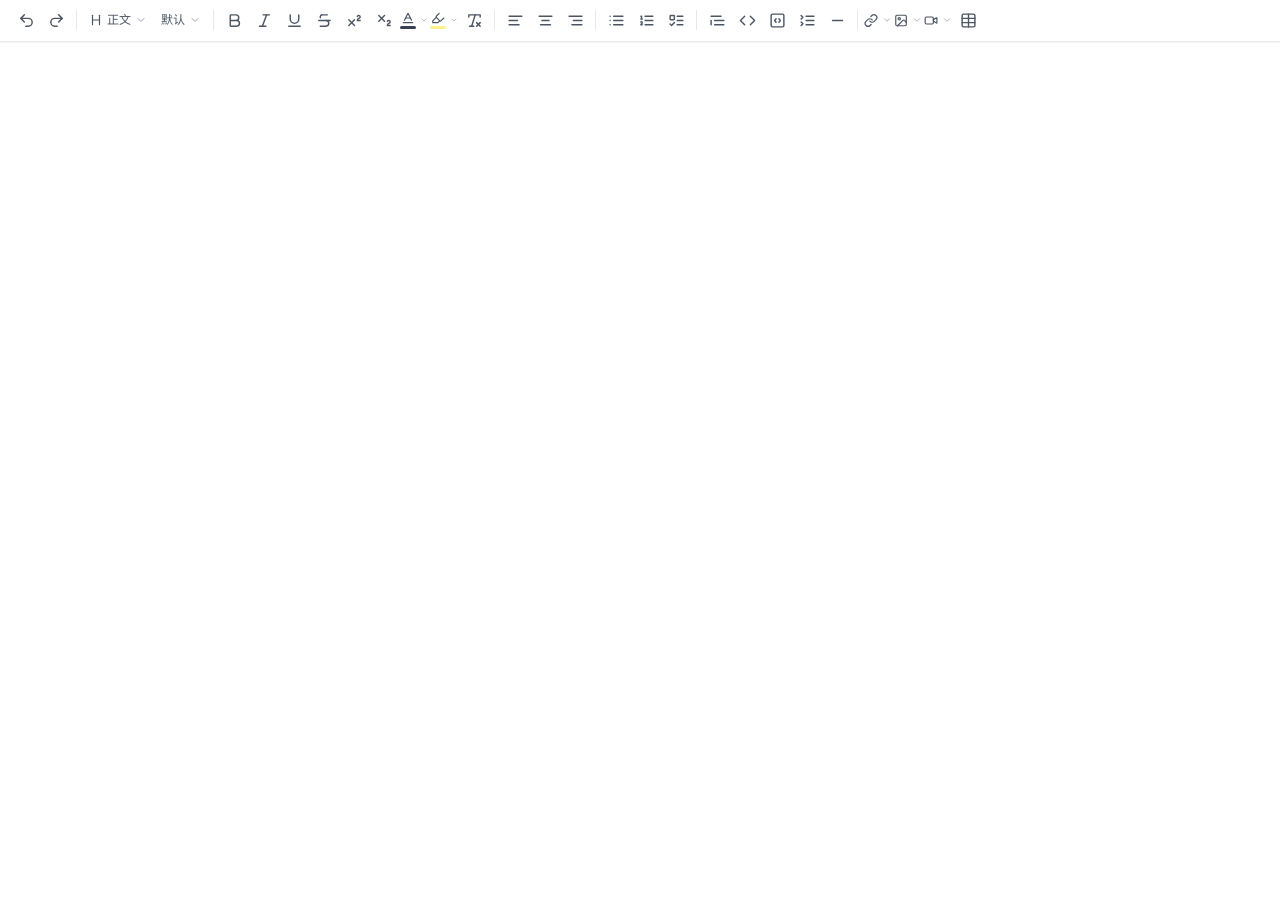
Scenario: the menus › close on an outside mousedown
Click the button with aria-label "字号" at (181, 20), box [155,6,207,34]
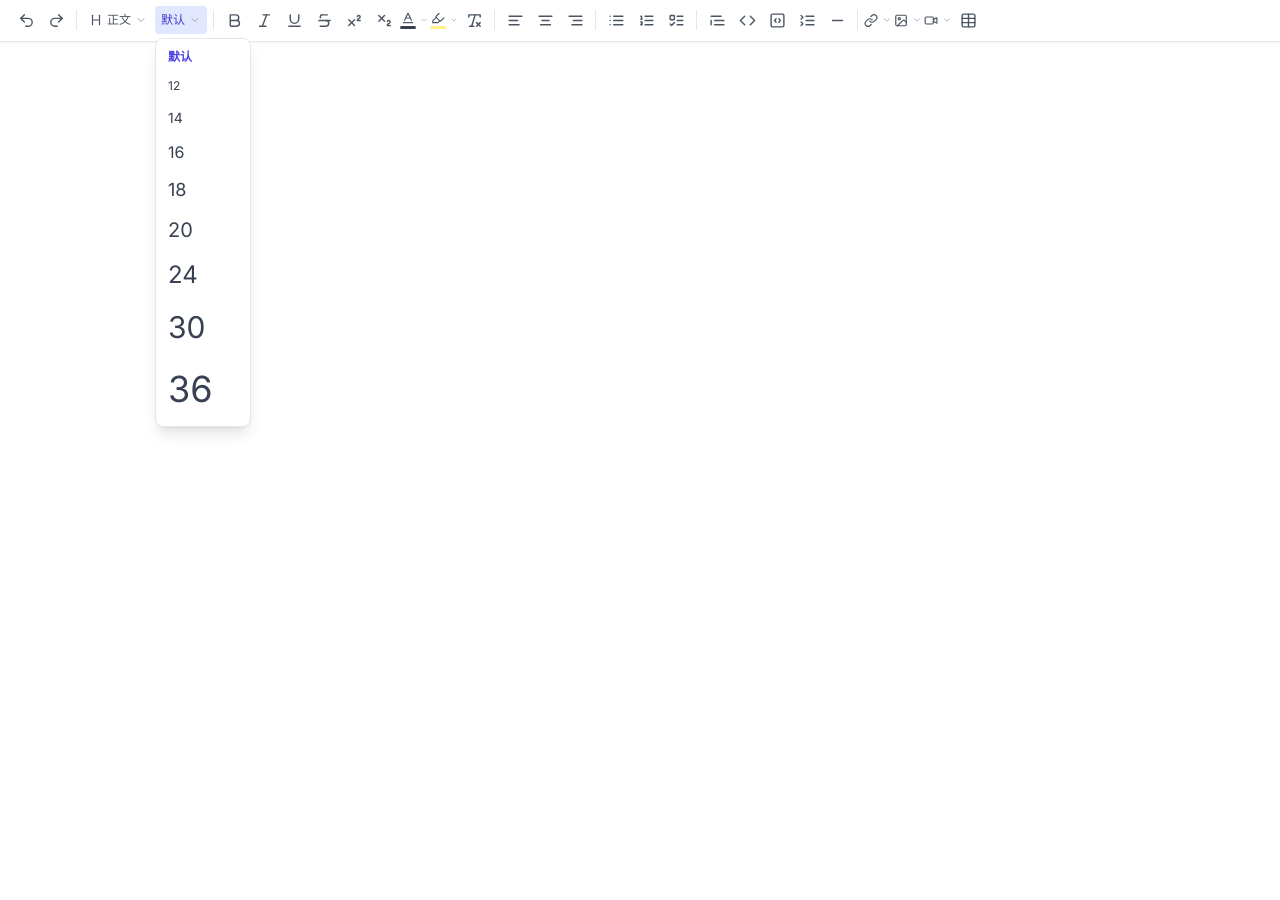
Result: the menu is shown at [155,38,251,427]
Press the mouse on the element showing "正文 默认 默认 12 14 16 18 20 24 30 36" at (640, 450), box [0,0,1279,899]
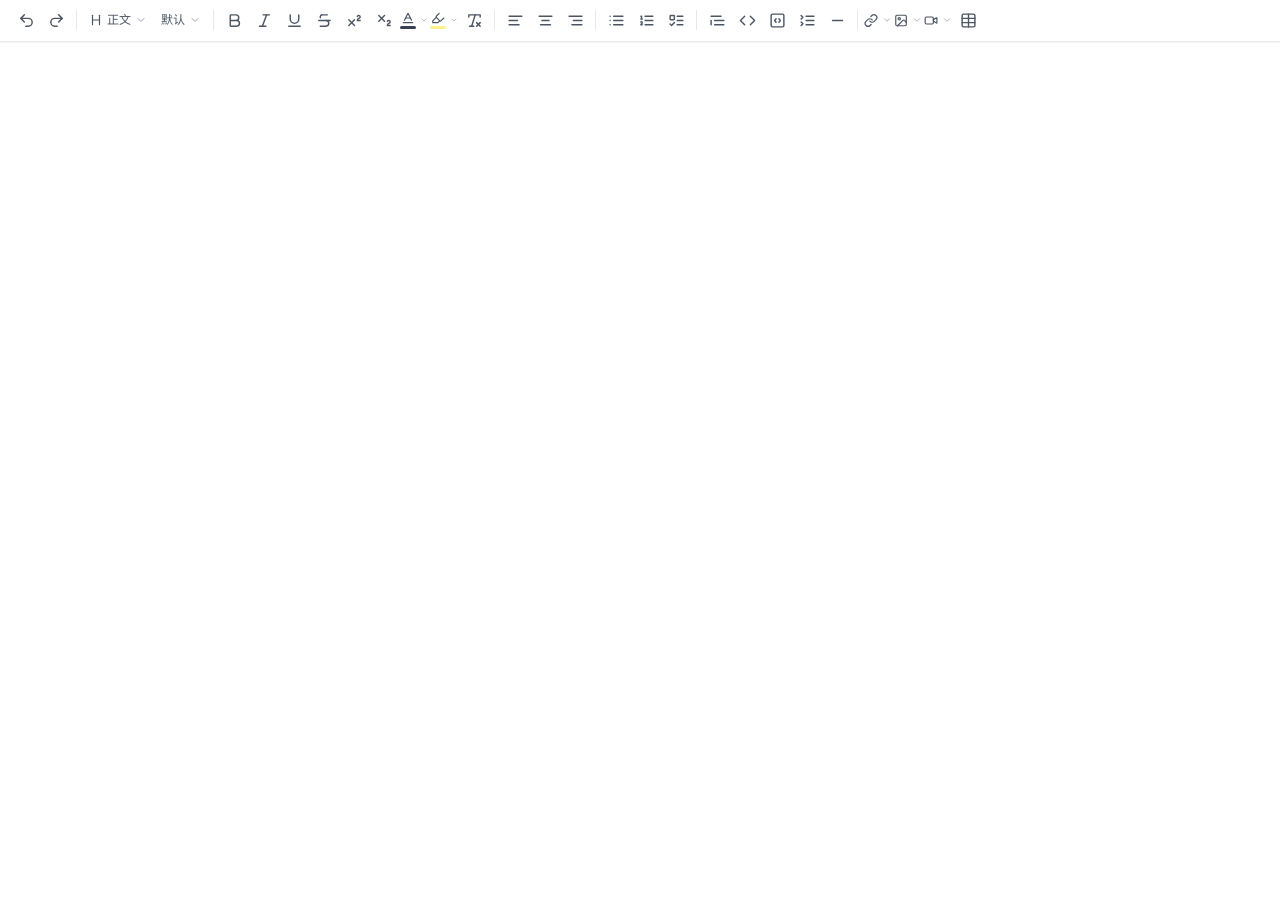
Result: the menu is gone
